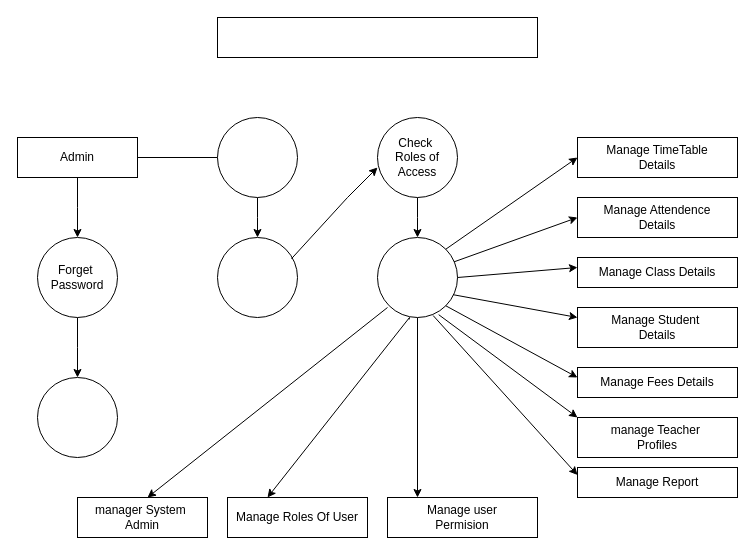
This 755x555 diagram has some shape labels left out. The centre of each missing label's shape, as x and y in pixels:
Check Credentials: [257,277]
Login to System: [257,157]
Manger Modules: [417,277]
Send Email to User: [77,417]
Student Information System: [377,37]
